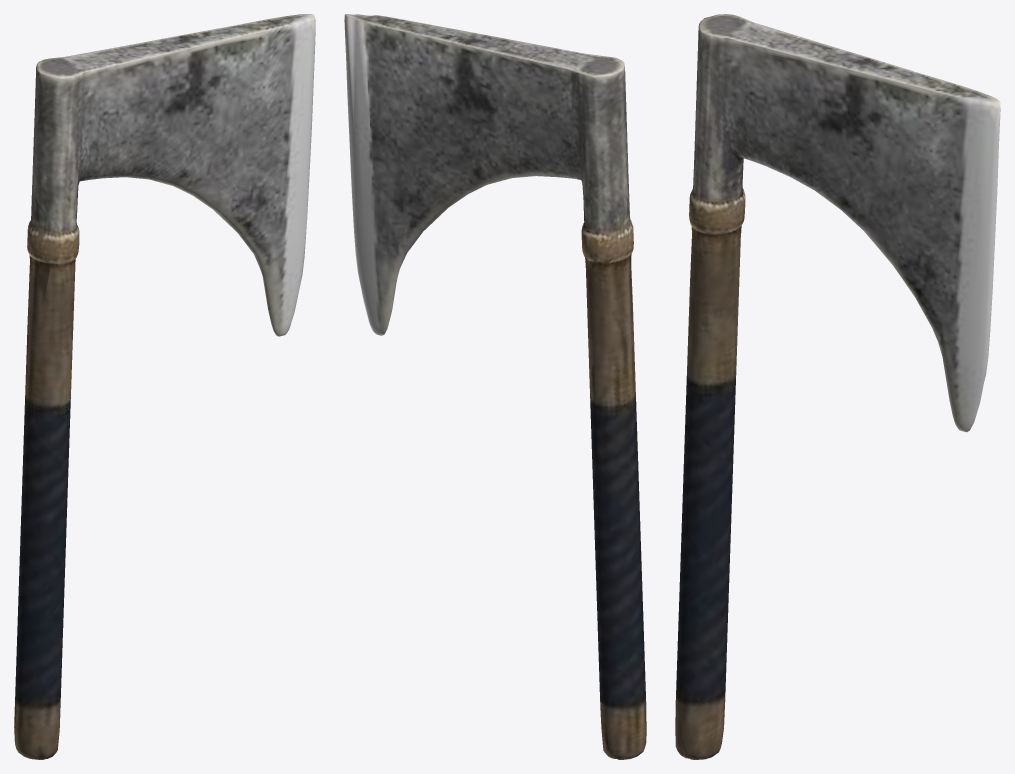
Rendered from Battleaxe2_SR.glb.
3 renders of one model, left to right at view 1: azimuth 30°, elevation 25°; view 2: azimuth 150°, elevation 25°; view 3: azimuth 330°, elevation 25°, orthographic. The views are drawn at different scales.
Parts seen in each view (by area): view 1: Battle Axe 2.001; view 2: Battle Axe 2.001; view 3: Battle Axe 2.001.
Part boxes in pixels (x1,y1,x2,y2): Battle Axe 2.001: (14,14,315,759); Battle Axe 2.001: (344,14,646,759); Battle Axe 2.001: (675,14,1000,759).
Size of the model in its own units: 0.7128 by 1.56 by 0.1193.
1 material, 1 textured.
